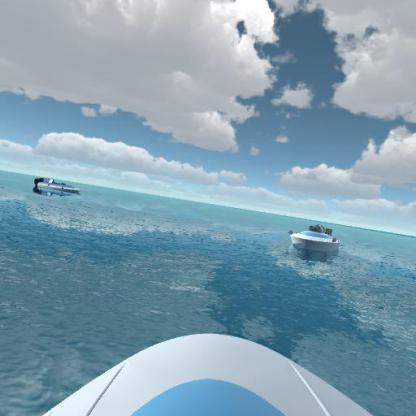usv1: (285, 222, 345, 260), (32, 172, 86, 204)
